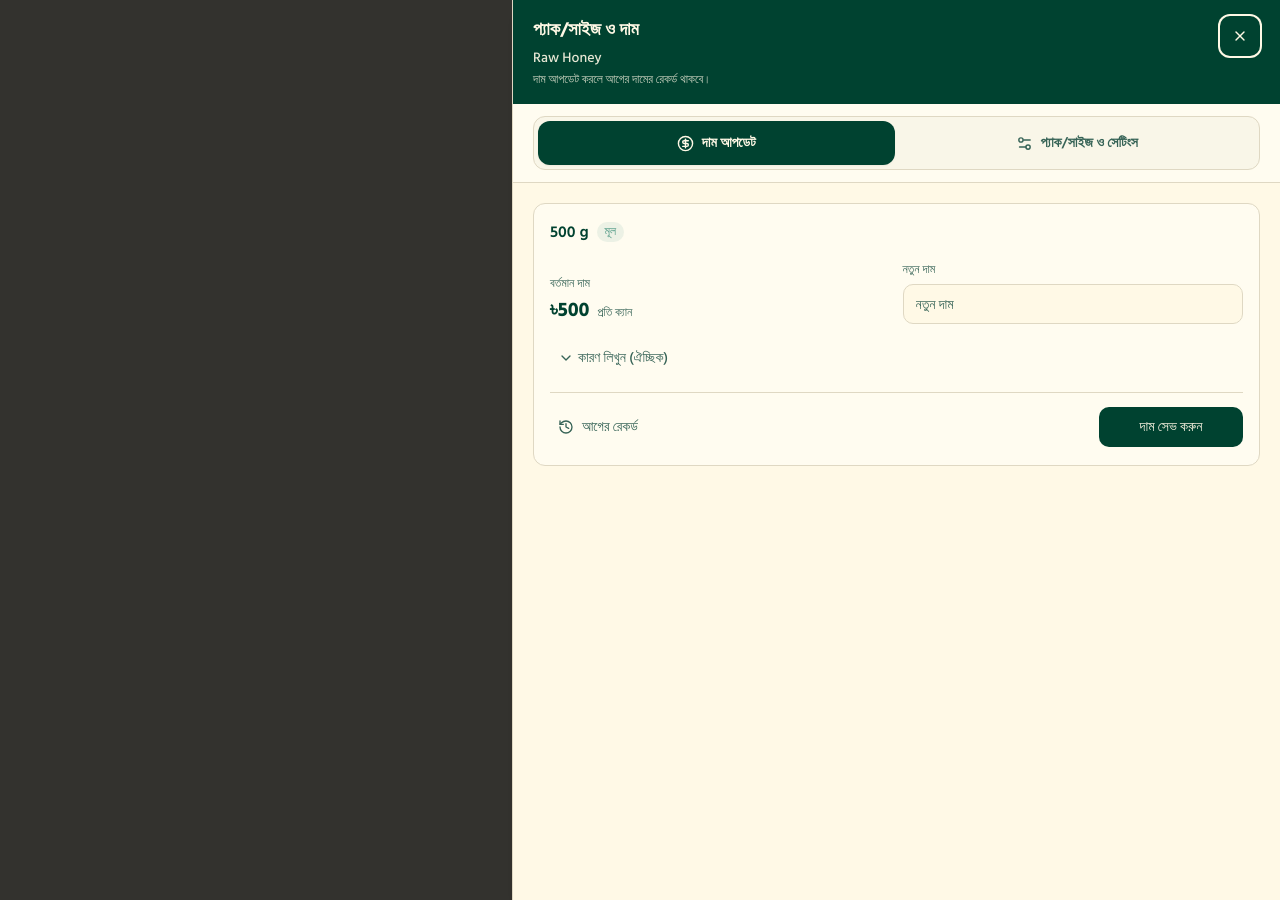
Test case: price-first pack/size drawer › keeps entered price and reason with an inline save error
Type "550" into the number field labelled "নতুন দাম" at (1073, 304), box [902, 284, 1243, 324]
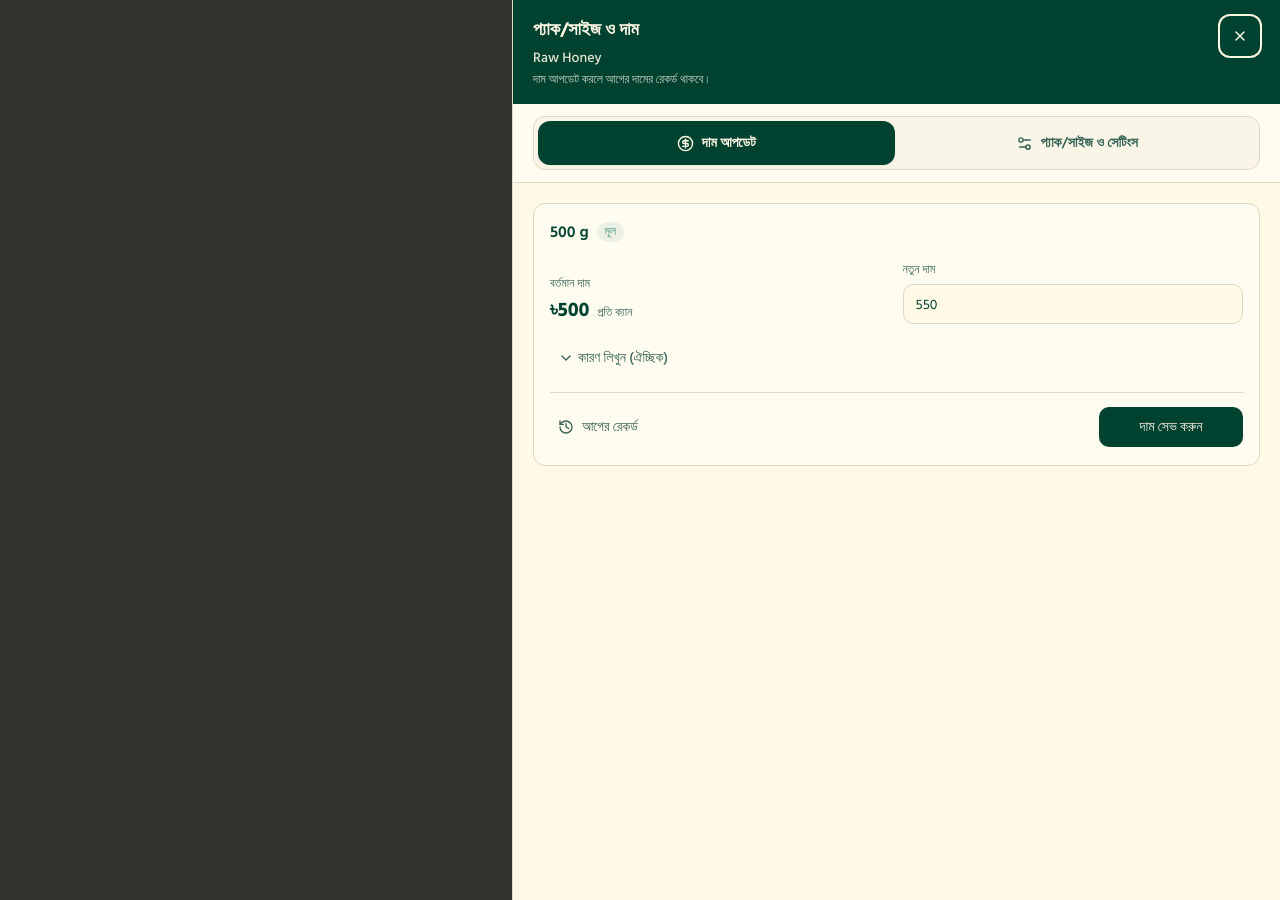
Click the button "কারণ লিখুন (ঐচ্ছিক)" at (613, 358), box [550, 336, 676, 380]
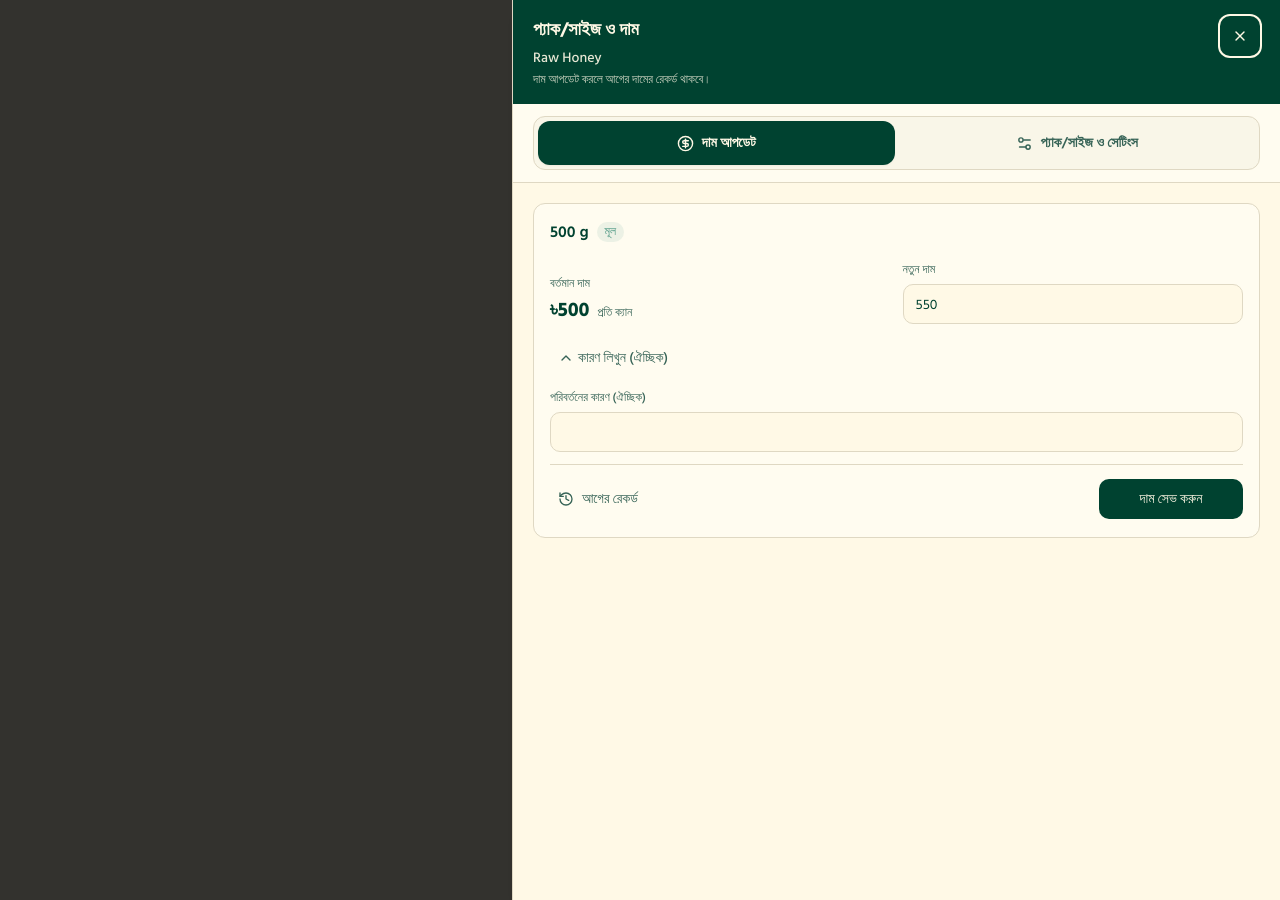
Type "নতুন চালান" into the field labelled "পরিবর্তনের কারণ (ঐচ্ছিক)" at (896, 432), box [550, 412, 1243, 452]
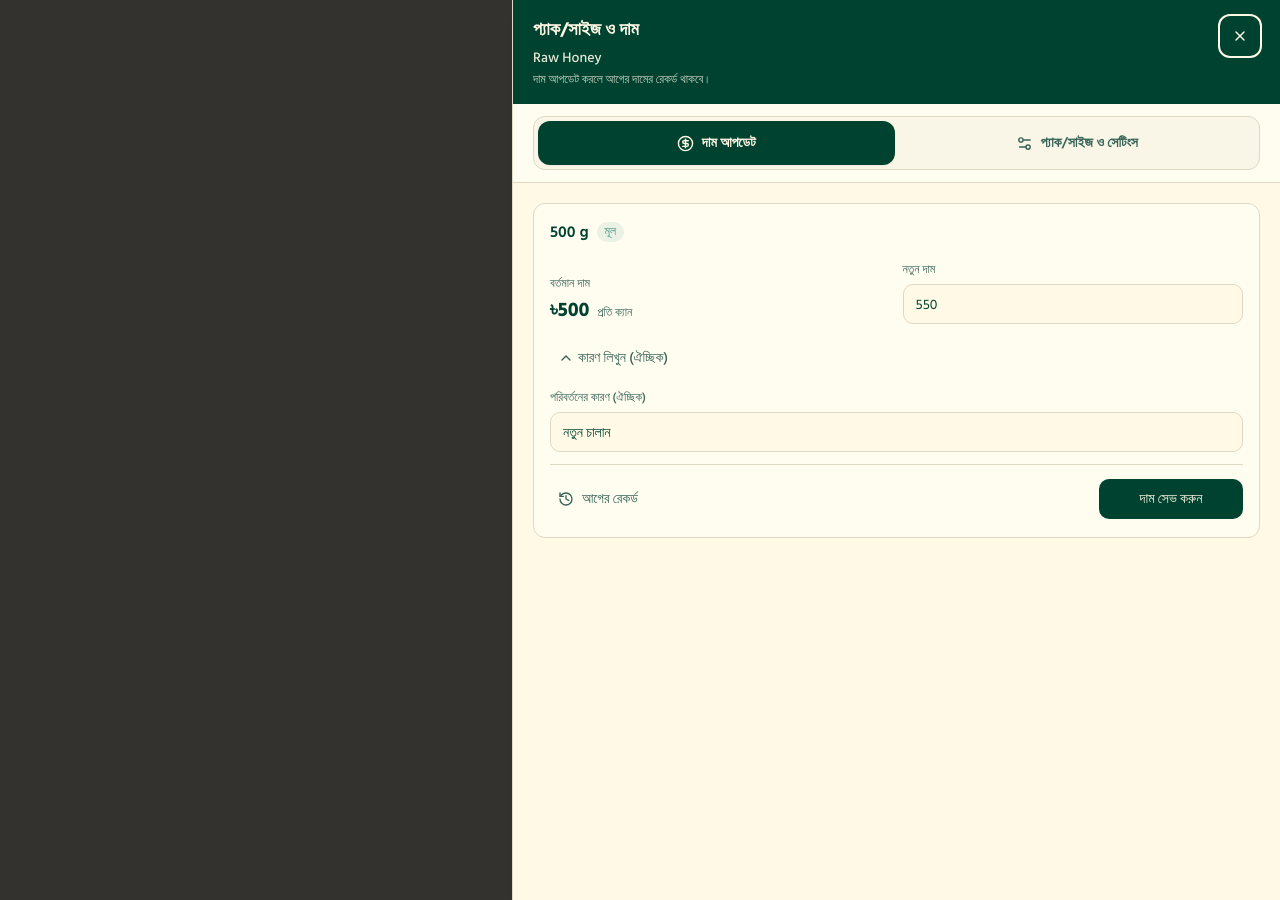
Click the button "দাম সেভ করুন" at (1171, 499), box [1099, 479, 1243, 519]
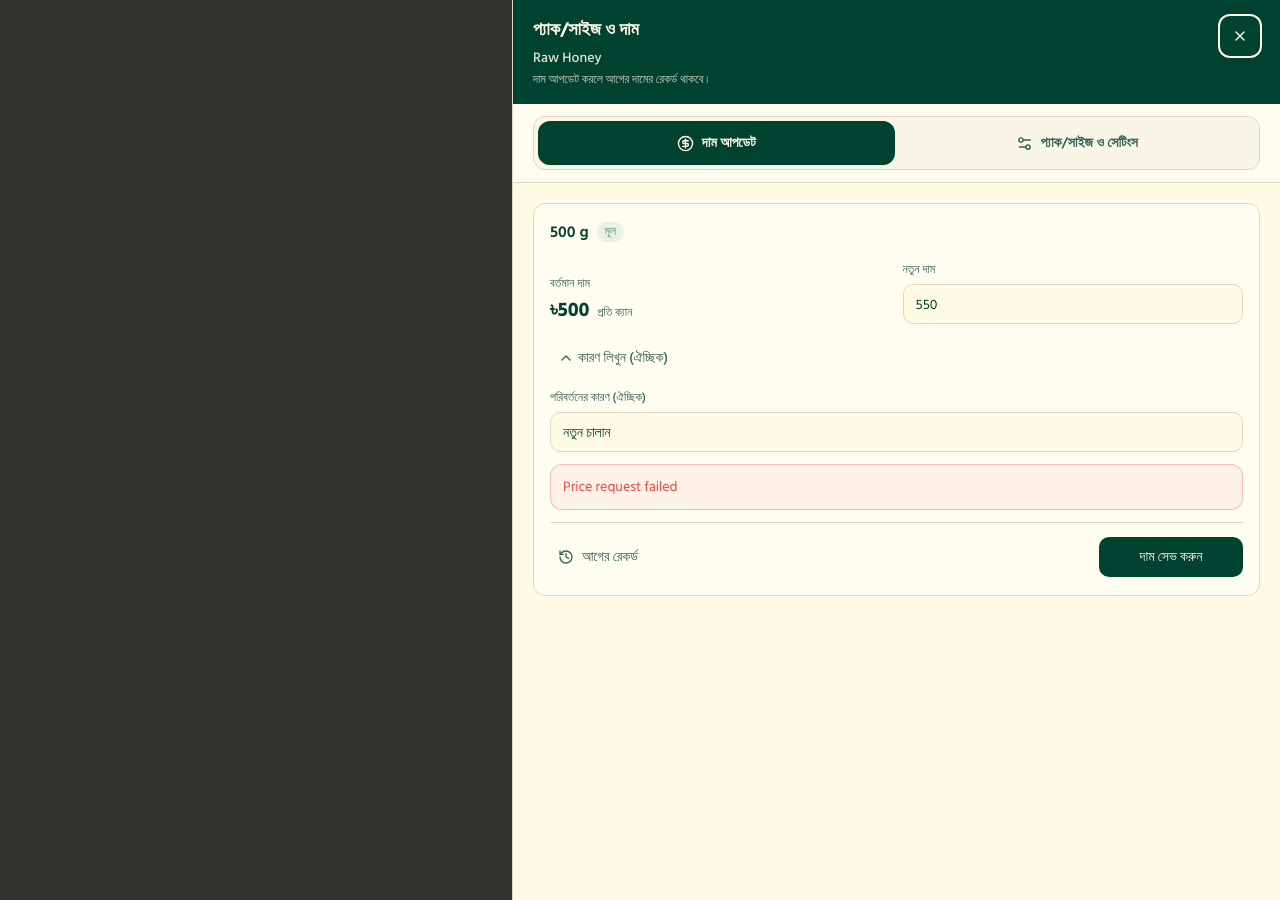
Now the message reads "Price request failed", box [563, 475, 678, 498]
